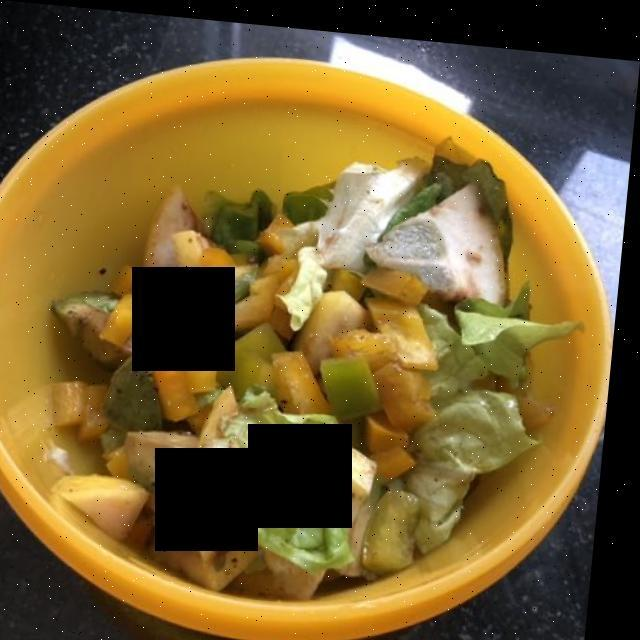avocado: (52, 285, 208, 497)
bell-pepper: (58, 226, 448, 469)
salad: (224, 150, 560, 576)
